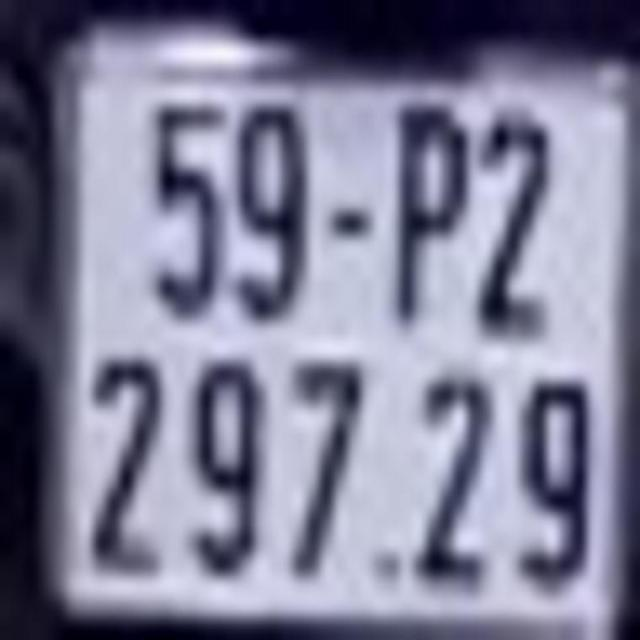2: (84, 364, 165, 574), (476, 107, 550, 335), (416, 377, 484, 576)
5: (152, 105, 226, 313)
7: (292, 362, 363, 575)
9: (516, 368, 590, 581), (236, 107, 304, 320), (196, 360, 256, 570)
P: (393, 108, 467, 316)
